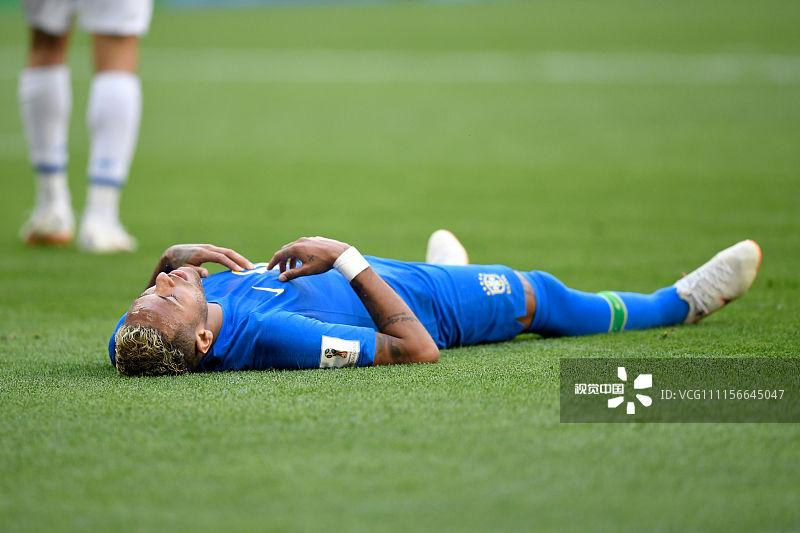down: (99, 204, 772, 379)
